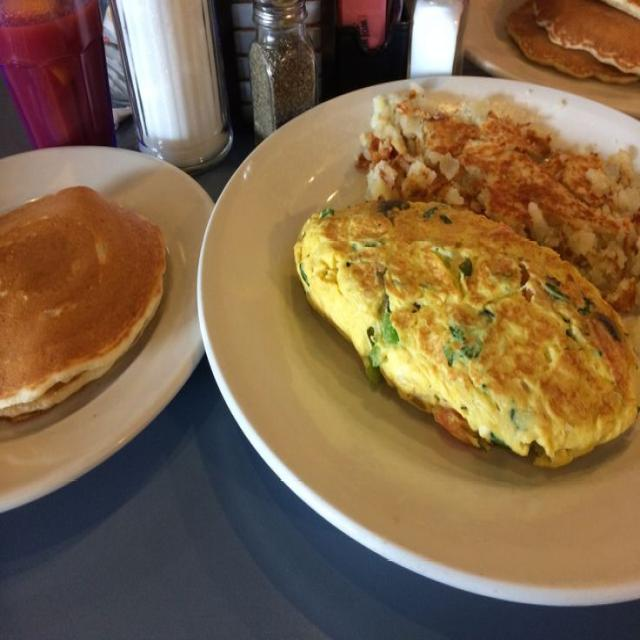Omelette: (289, 177, 634, 465)
Pancakes: (1, 167, 182, 417)
